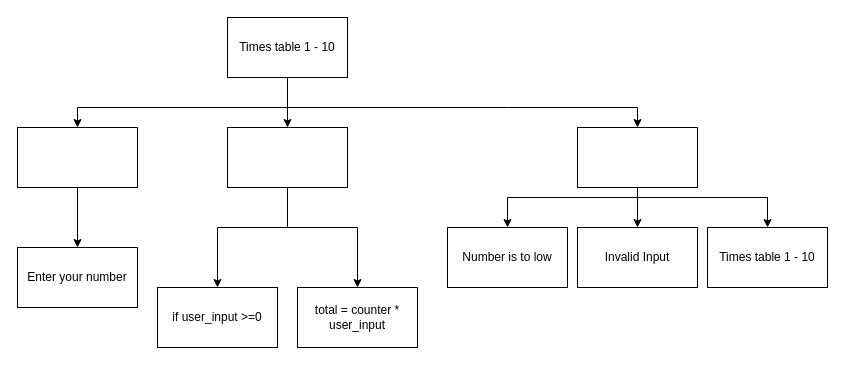
Image size: 845x365. Some labels were removed from this diagram. Here are the shapes that lost their labels. From the top down, the centre of each, then its label:
At (77,157): "Input".
At (287,157): "Process".
At (637,157): "Output".
